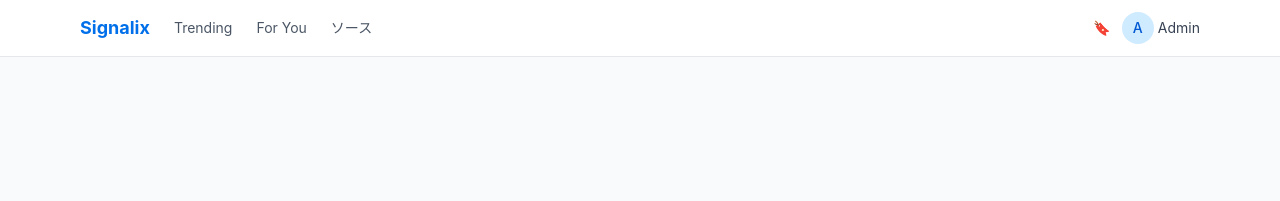
Navbar › 管理者ユーザーには管理画面リンクを表示する
This screenshot has width=1280, height=201.
Click the button with aria-label "ユーザーメニュー".
click(1161, 28)  # box x1=1122 y1=12 x2=1200 y2=44
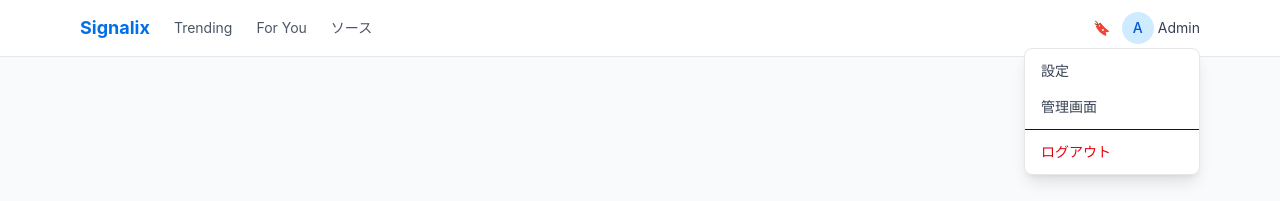
Now the link "管理画面" is shown, box x1=1041 y1=98 x2=1097 y2=115
